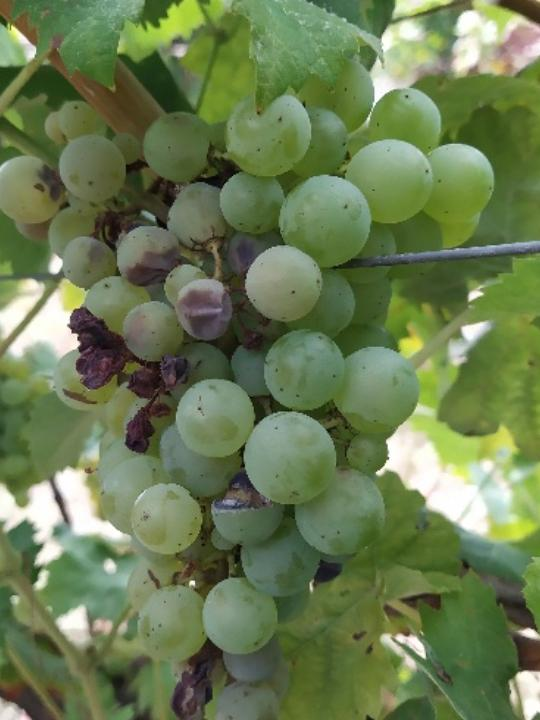grape: (0, 56, 499, 720)
